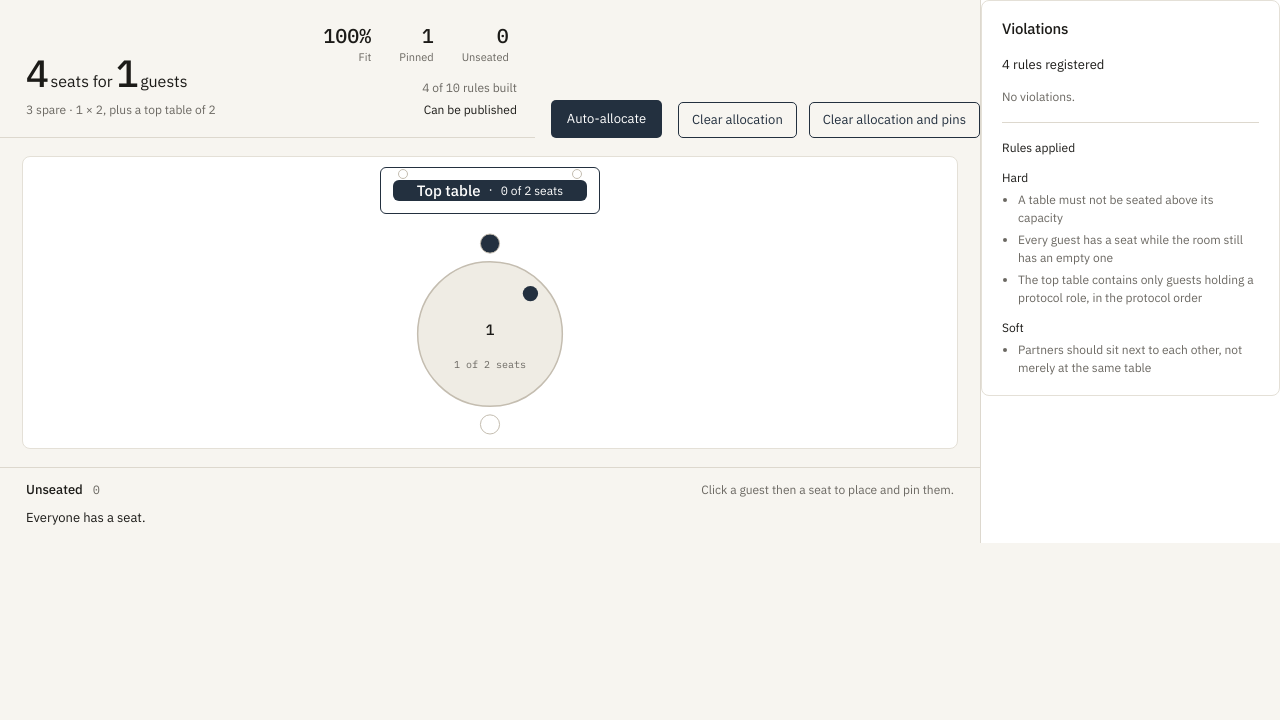
Test: the Pinned toggle works regardless of the score, which is no longer null here now that capacity always has an opportunity (TT-46) › a guest list with no partner data reads a real capacity-only score, not "Nothing to score", and the Pinned toggle still opens its panel
Check: the button "100% Fit" is shown, box [315, 22, 379, 71]
Click the button "1 Pinned". click: (416, 47)
box: [391, 22, 442, 71]
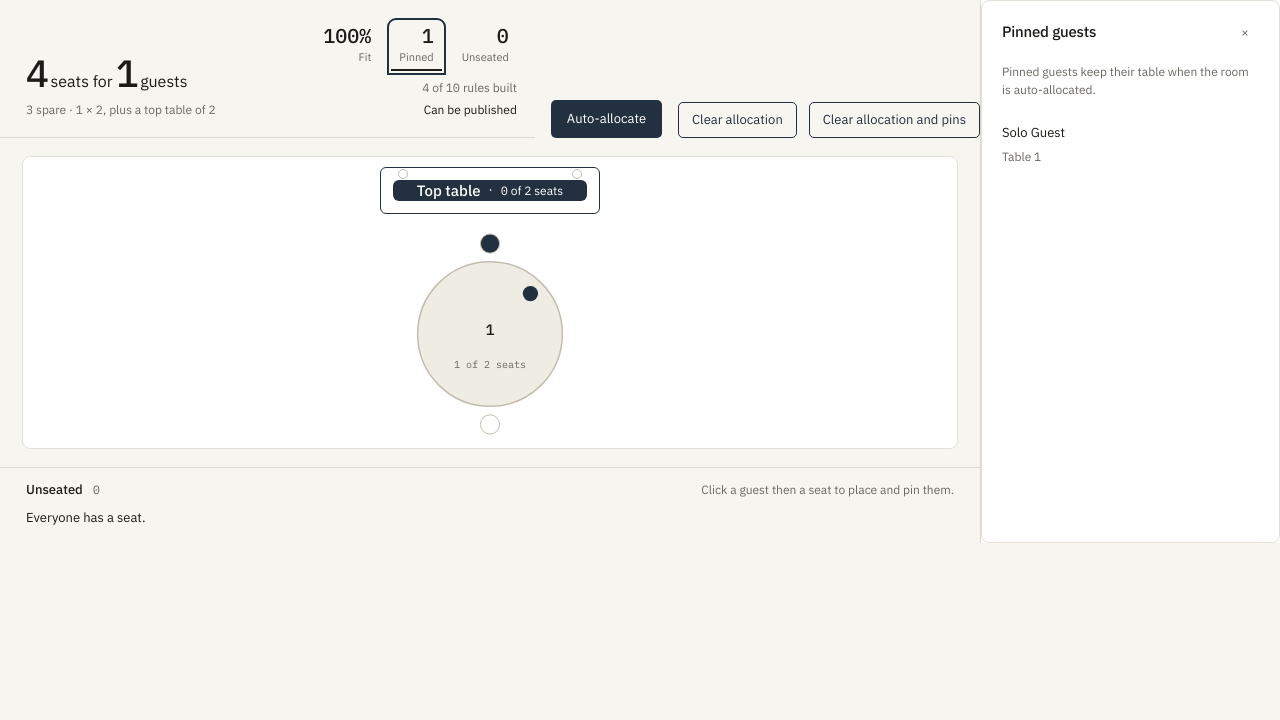
Check: the list item "Solo Guest Table 1" is shown, box [1002, 124, 1065, 164]
